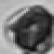correct: (6, 6, 54, 54)
